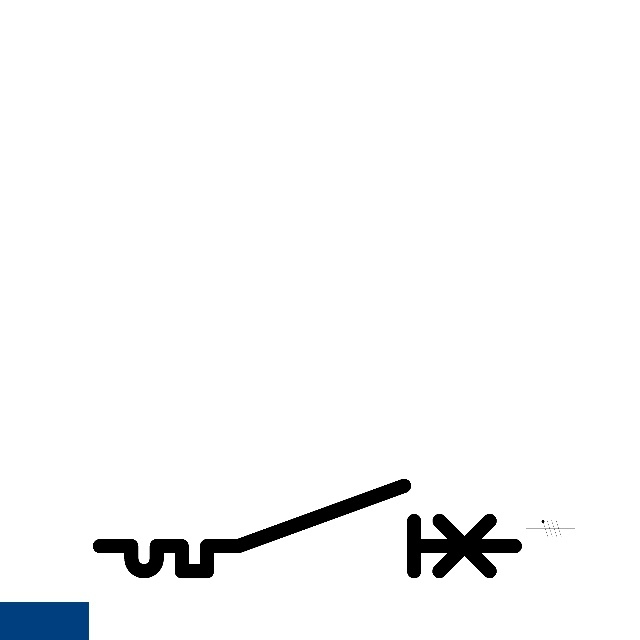interruptor_termomagnetico: (89, 475, 526, 582)
